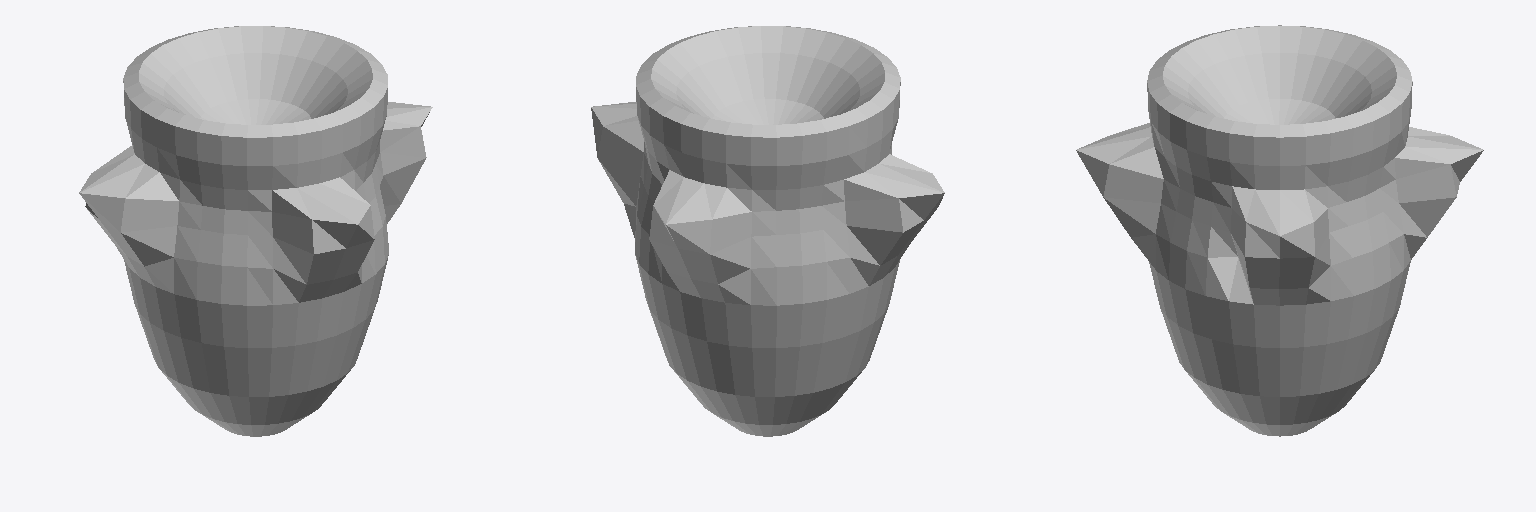
The model's file is thruster.obj.
The picture shows the model from 3 angles: view 1: azimuth 30°, elevation 25°; view 2: azimuth 150°, elevation 25°; view 3: azimuth 270°, elevation 25°; orthographic projection.
Visible parts, largest first — view 1: Sphere001; view 2: Sphere001; view 3: Sphere001.
Boxes of the visible parts, box(x1,y1,x2,y2) form: Sphere001: box(79, 26, 432, 436); Sphere001: box(591, 26, 944, 436); Sphere001: box(1076, 25, 1483, 436).
Size of the model in its own units: 77.26 by 75.32 by 77.26.